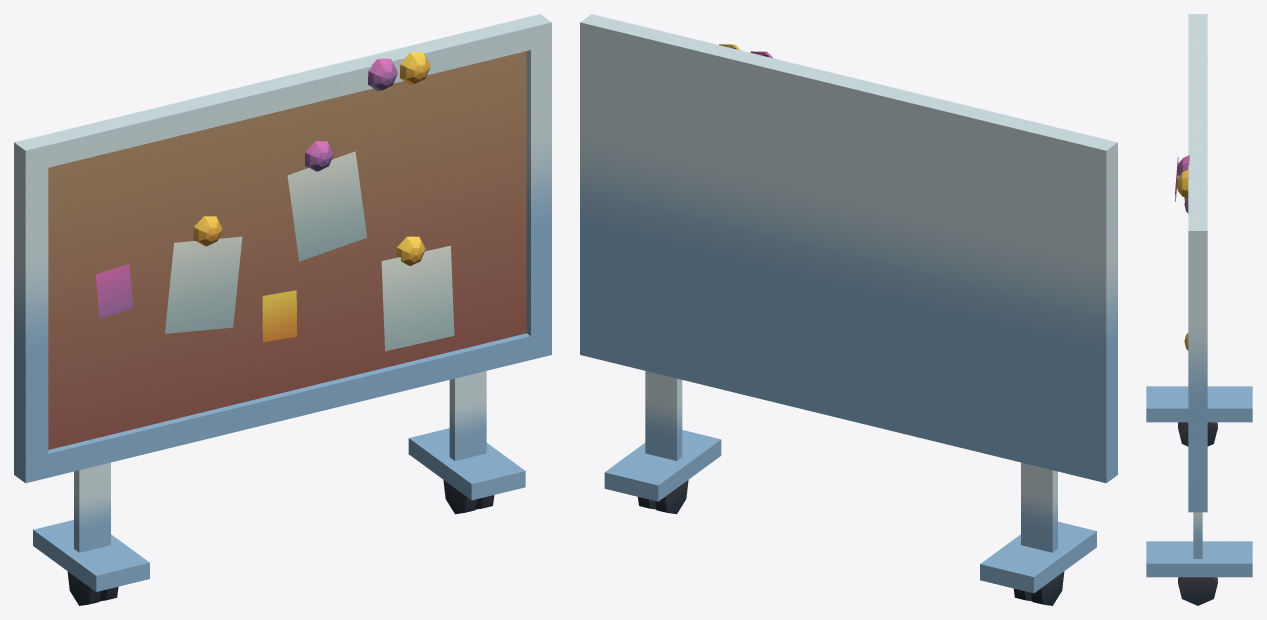
The model's file is KIND-noticeboard.fbx.
The picture shows the model from 3 angles, left to right: view 1: azimuth 30°, elevation 25°; view 2: azimuth 150°, elevation 25°; view 3: azimuth 270°, elevation 25°; orthographic projection. The views are drawn at different scales.
Visible parts, largest first — view 1: polySurface44; view 2: polySurface44; view 3: polySurface44.
Part boxes in pixels (box(x1,y1,x2,y2)): polySurface44: box(14, 14, 551, 605); polySurface44: box(580, 14, 1117, 605); polySurface44: box(1146, 14, 1252, 605).
Bounding box in the file's own units: 4.29 × 3.73 × 0.8901.
Materials: 1 (1 with a texture image).
